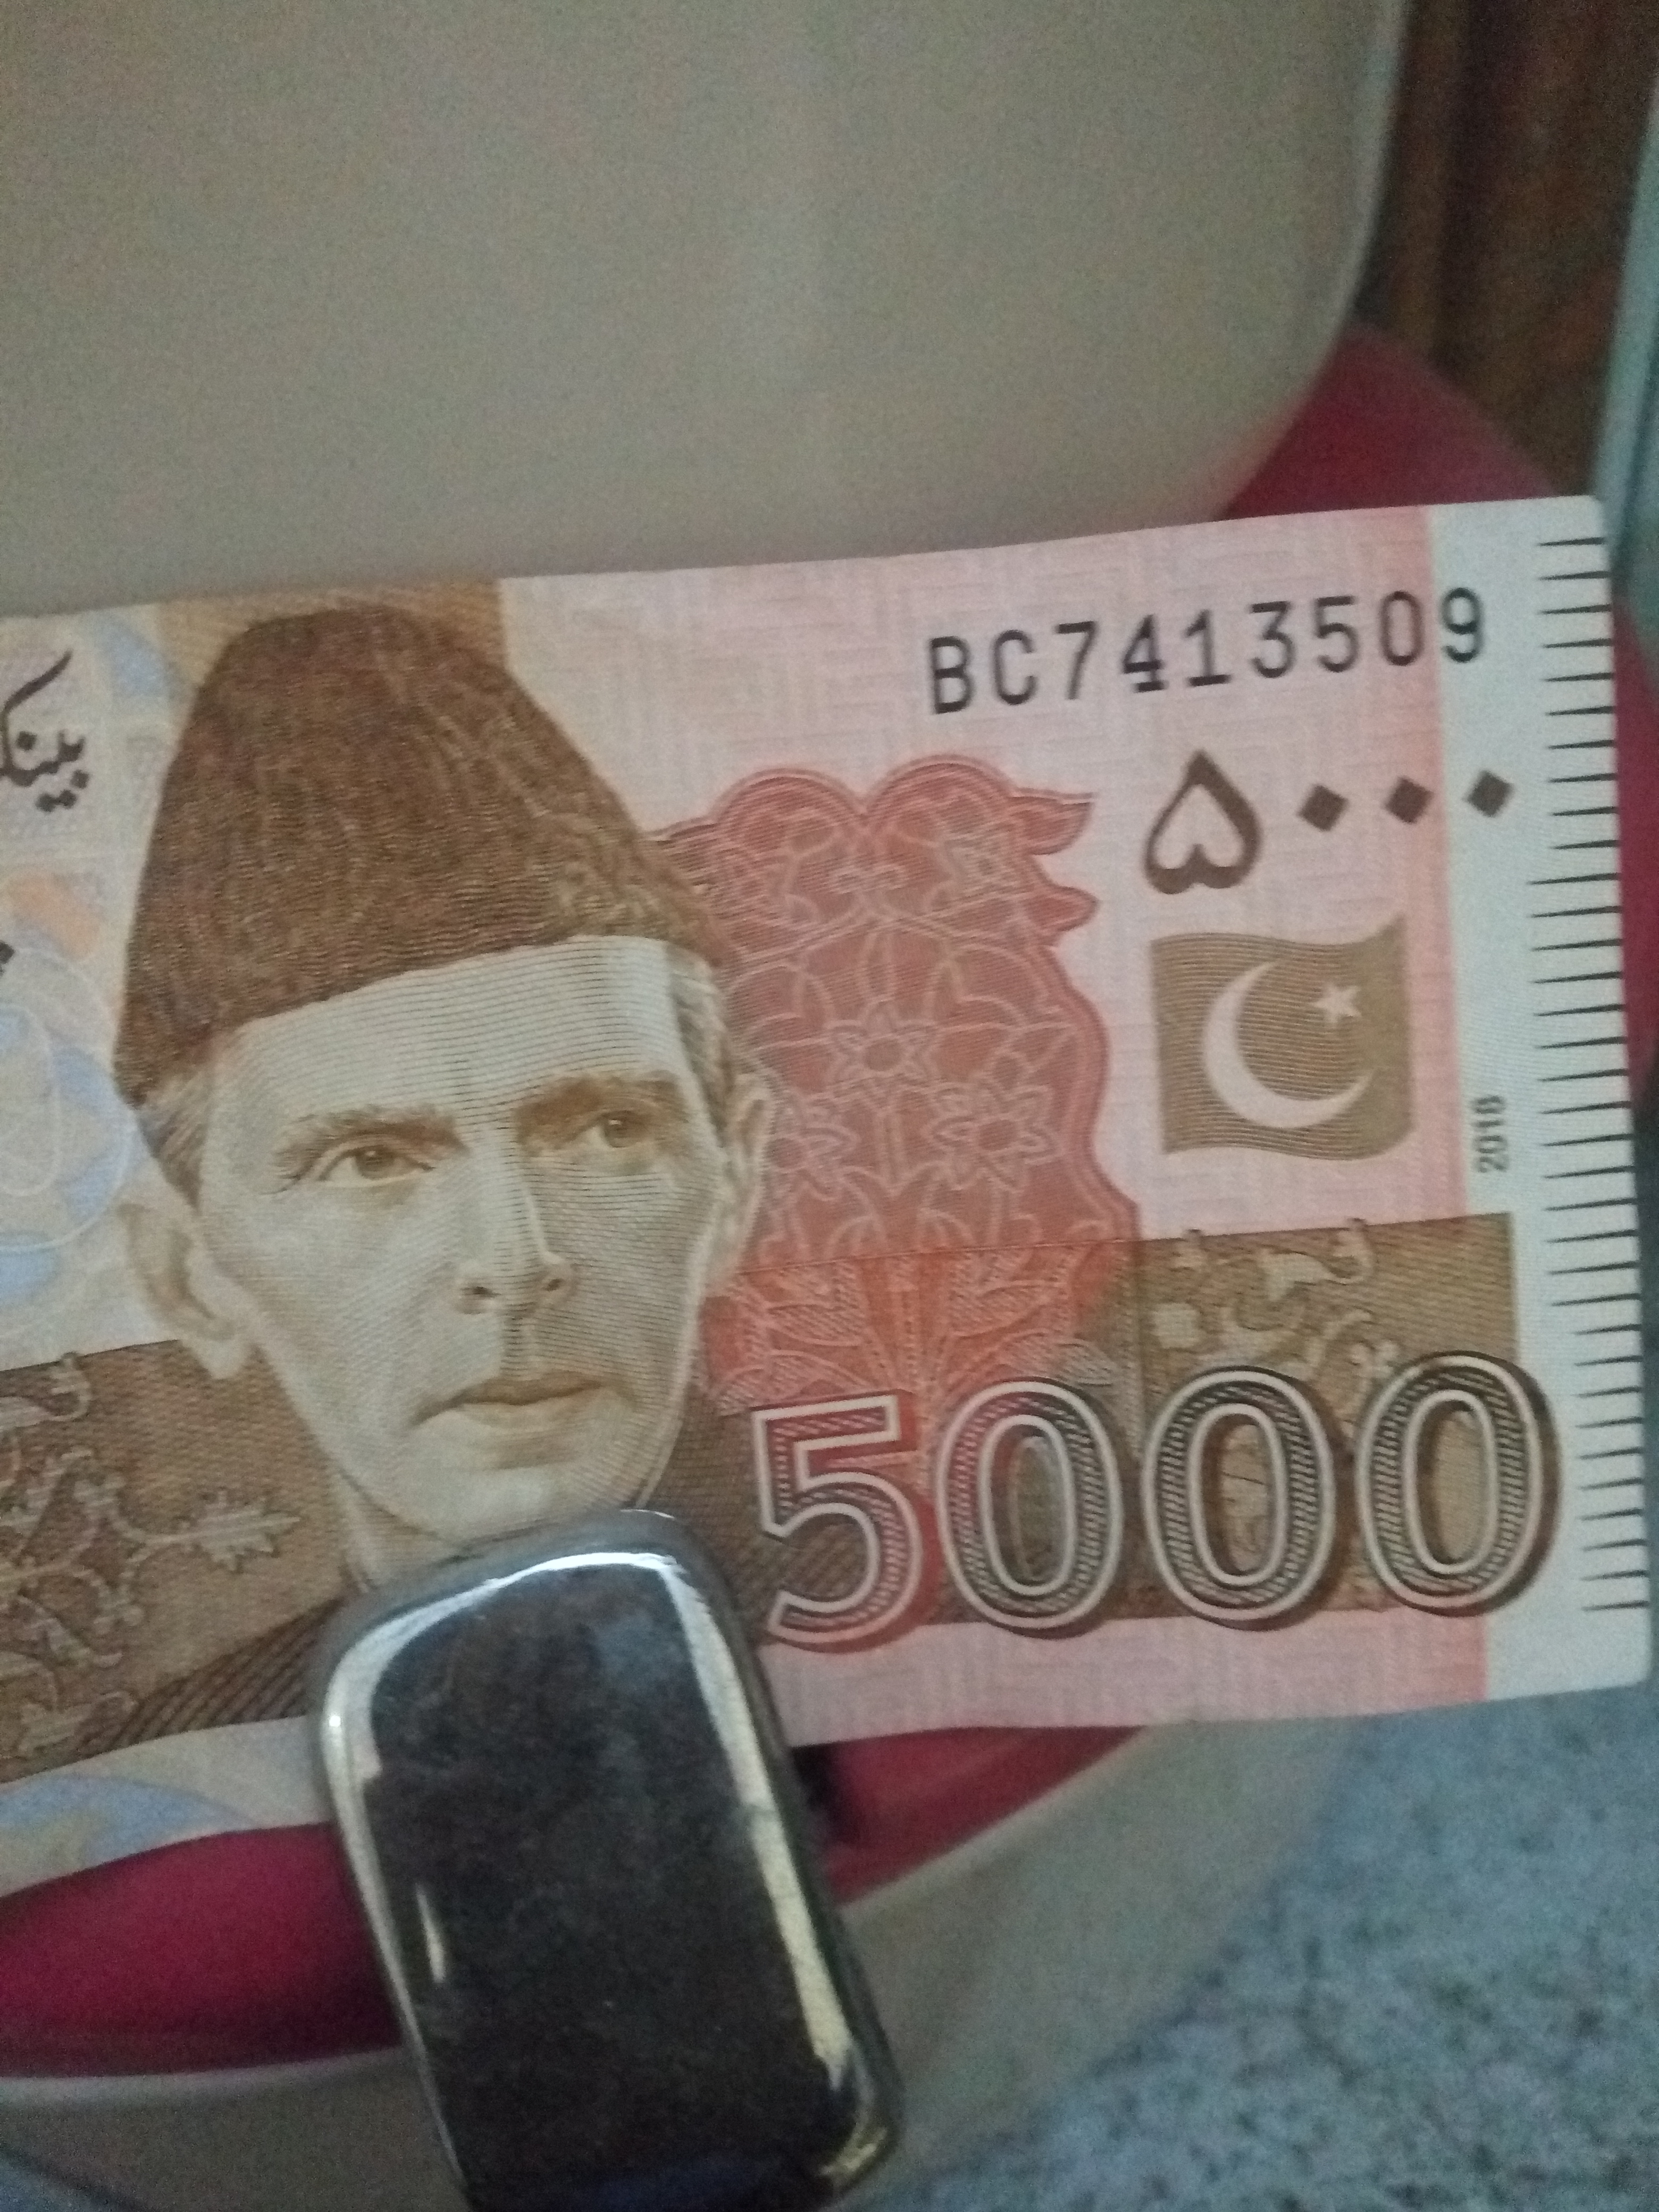5000 rupee: (24, 547, 1659, 1825), (697, 1271, 1574, 1731)
